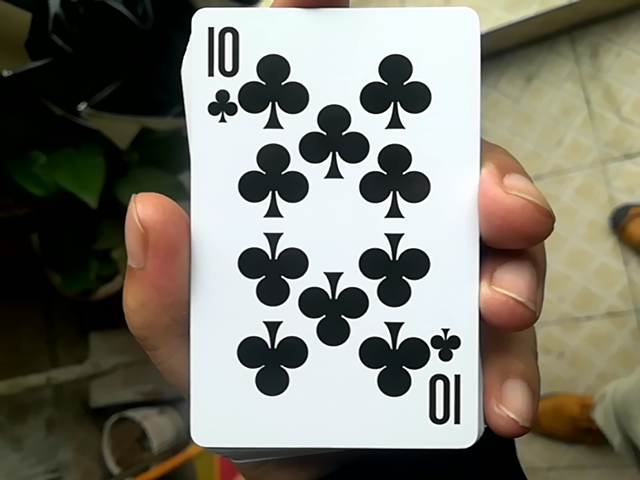mh 10: (179, 0, 477, 438)
